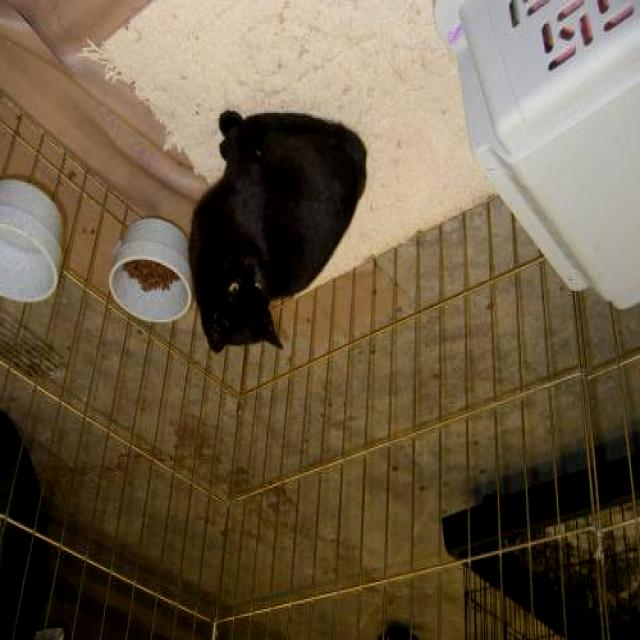Kucing: (154, 80, 363, 391)
